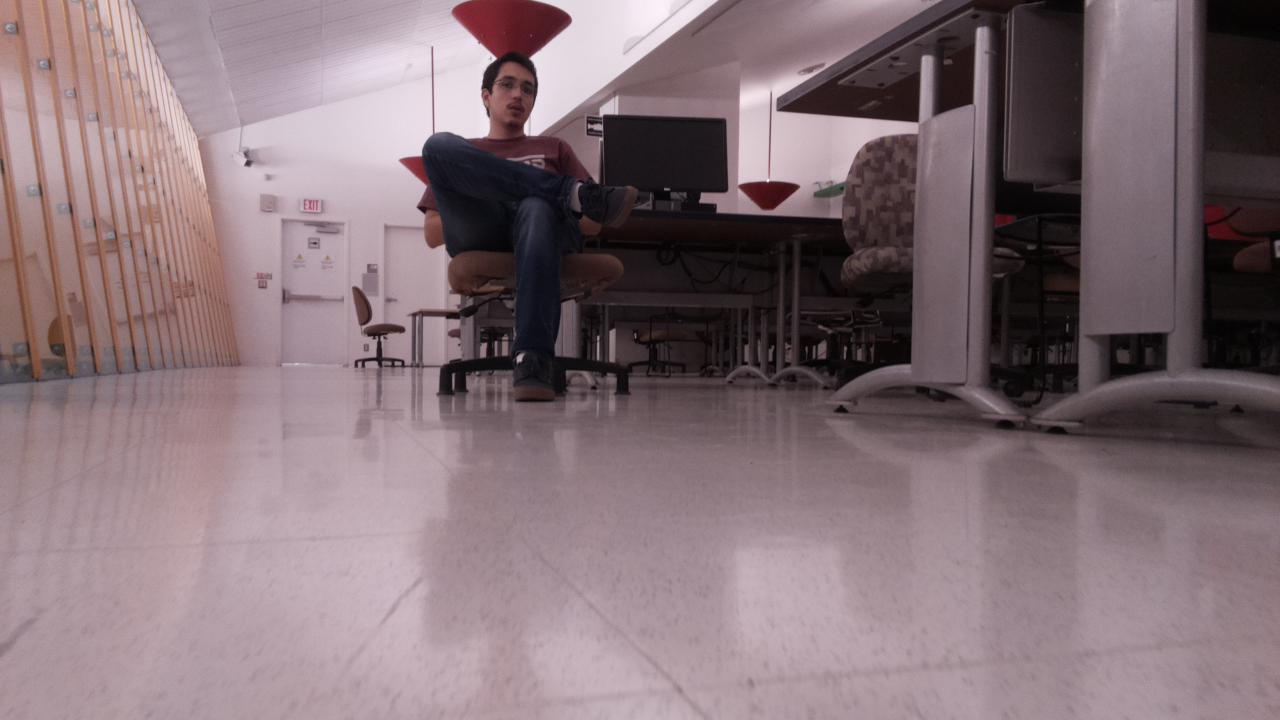door: (282, 223, 343, 363), (384, 228, 444, 365)
person: (416, 51, 639, 402)
sign: (586, 116, 603, 135), (301, 197, 321, 212)
tvmonitor: (606, 115, 726, 190)
